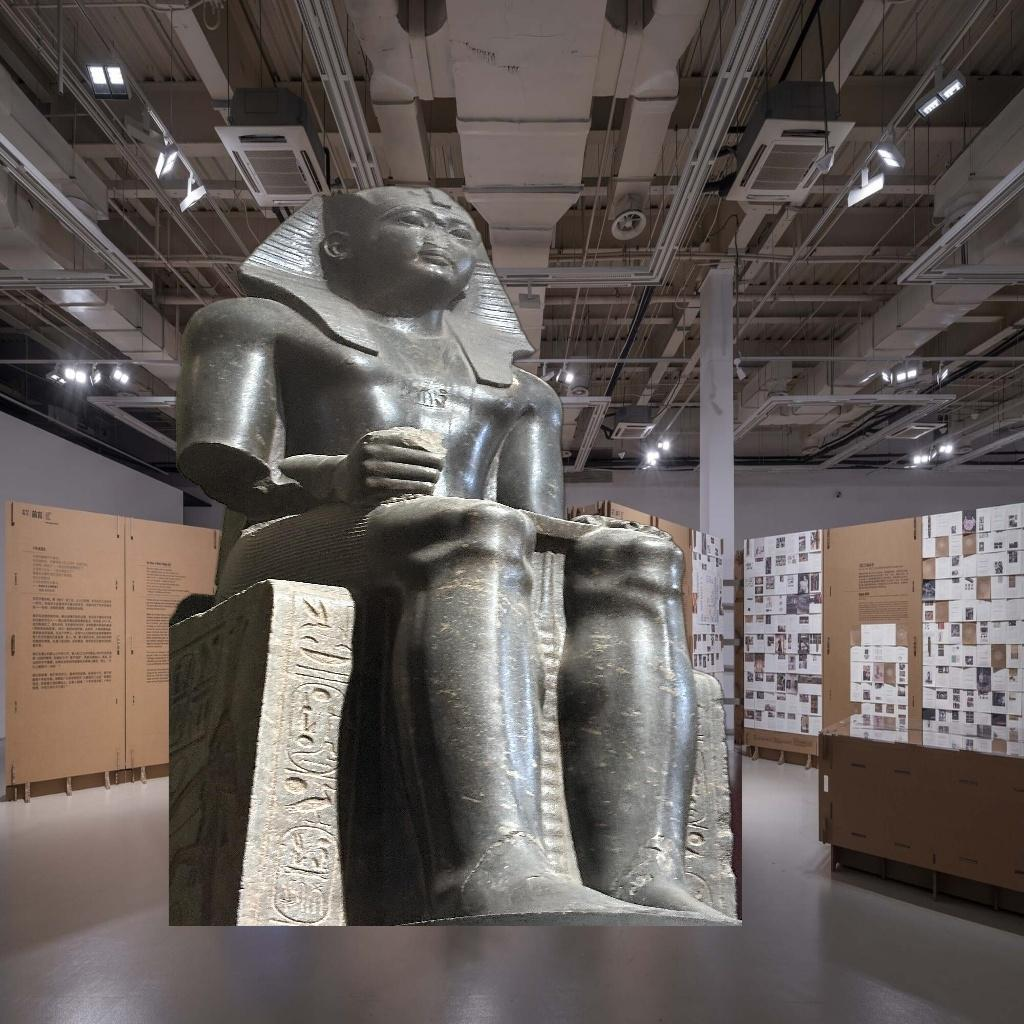Seated Statue of Ramesses II: (169, 180, 742, 926)
